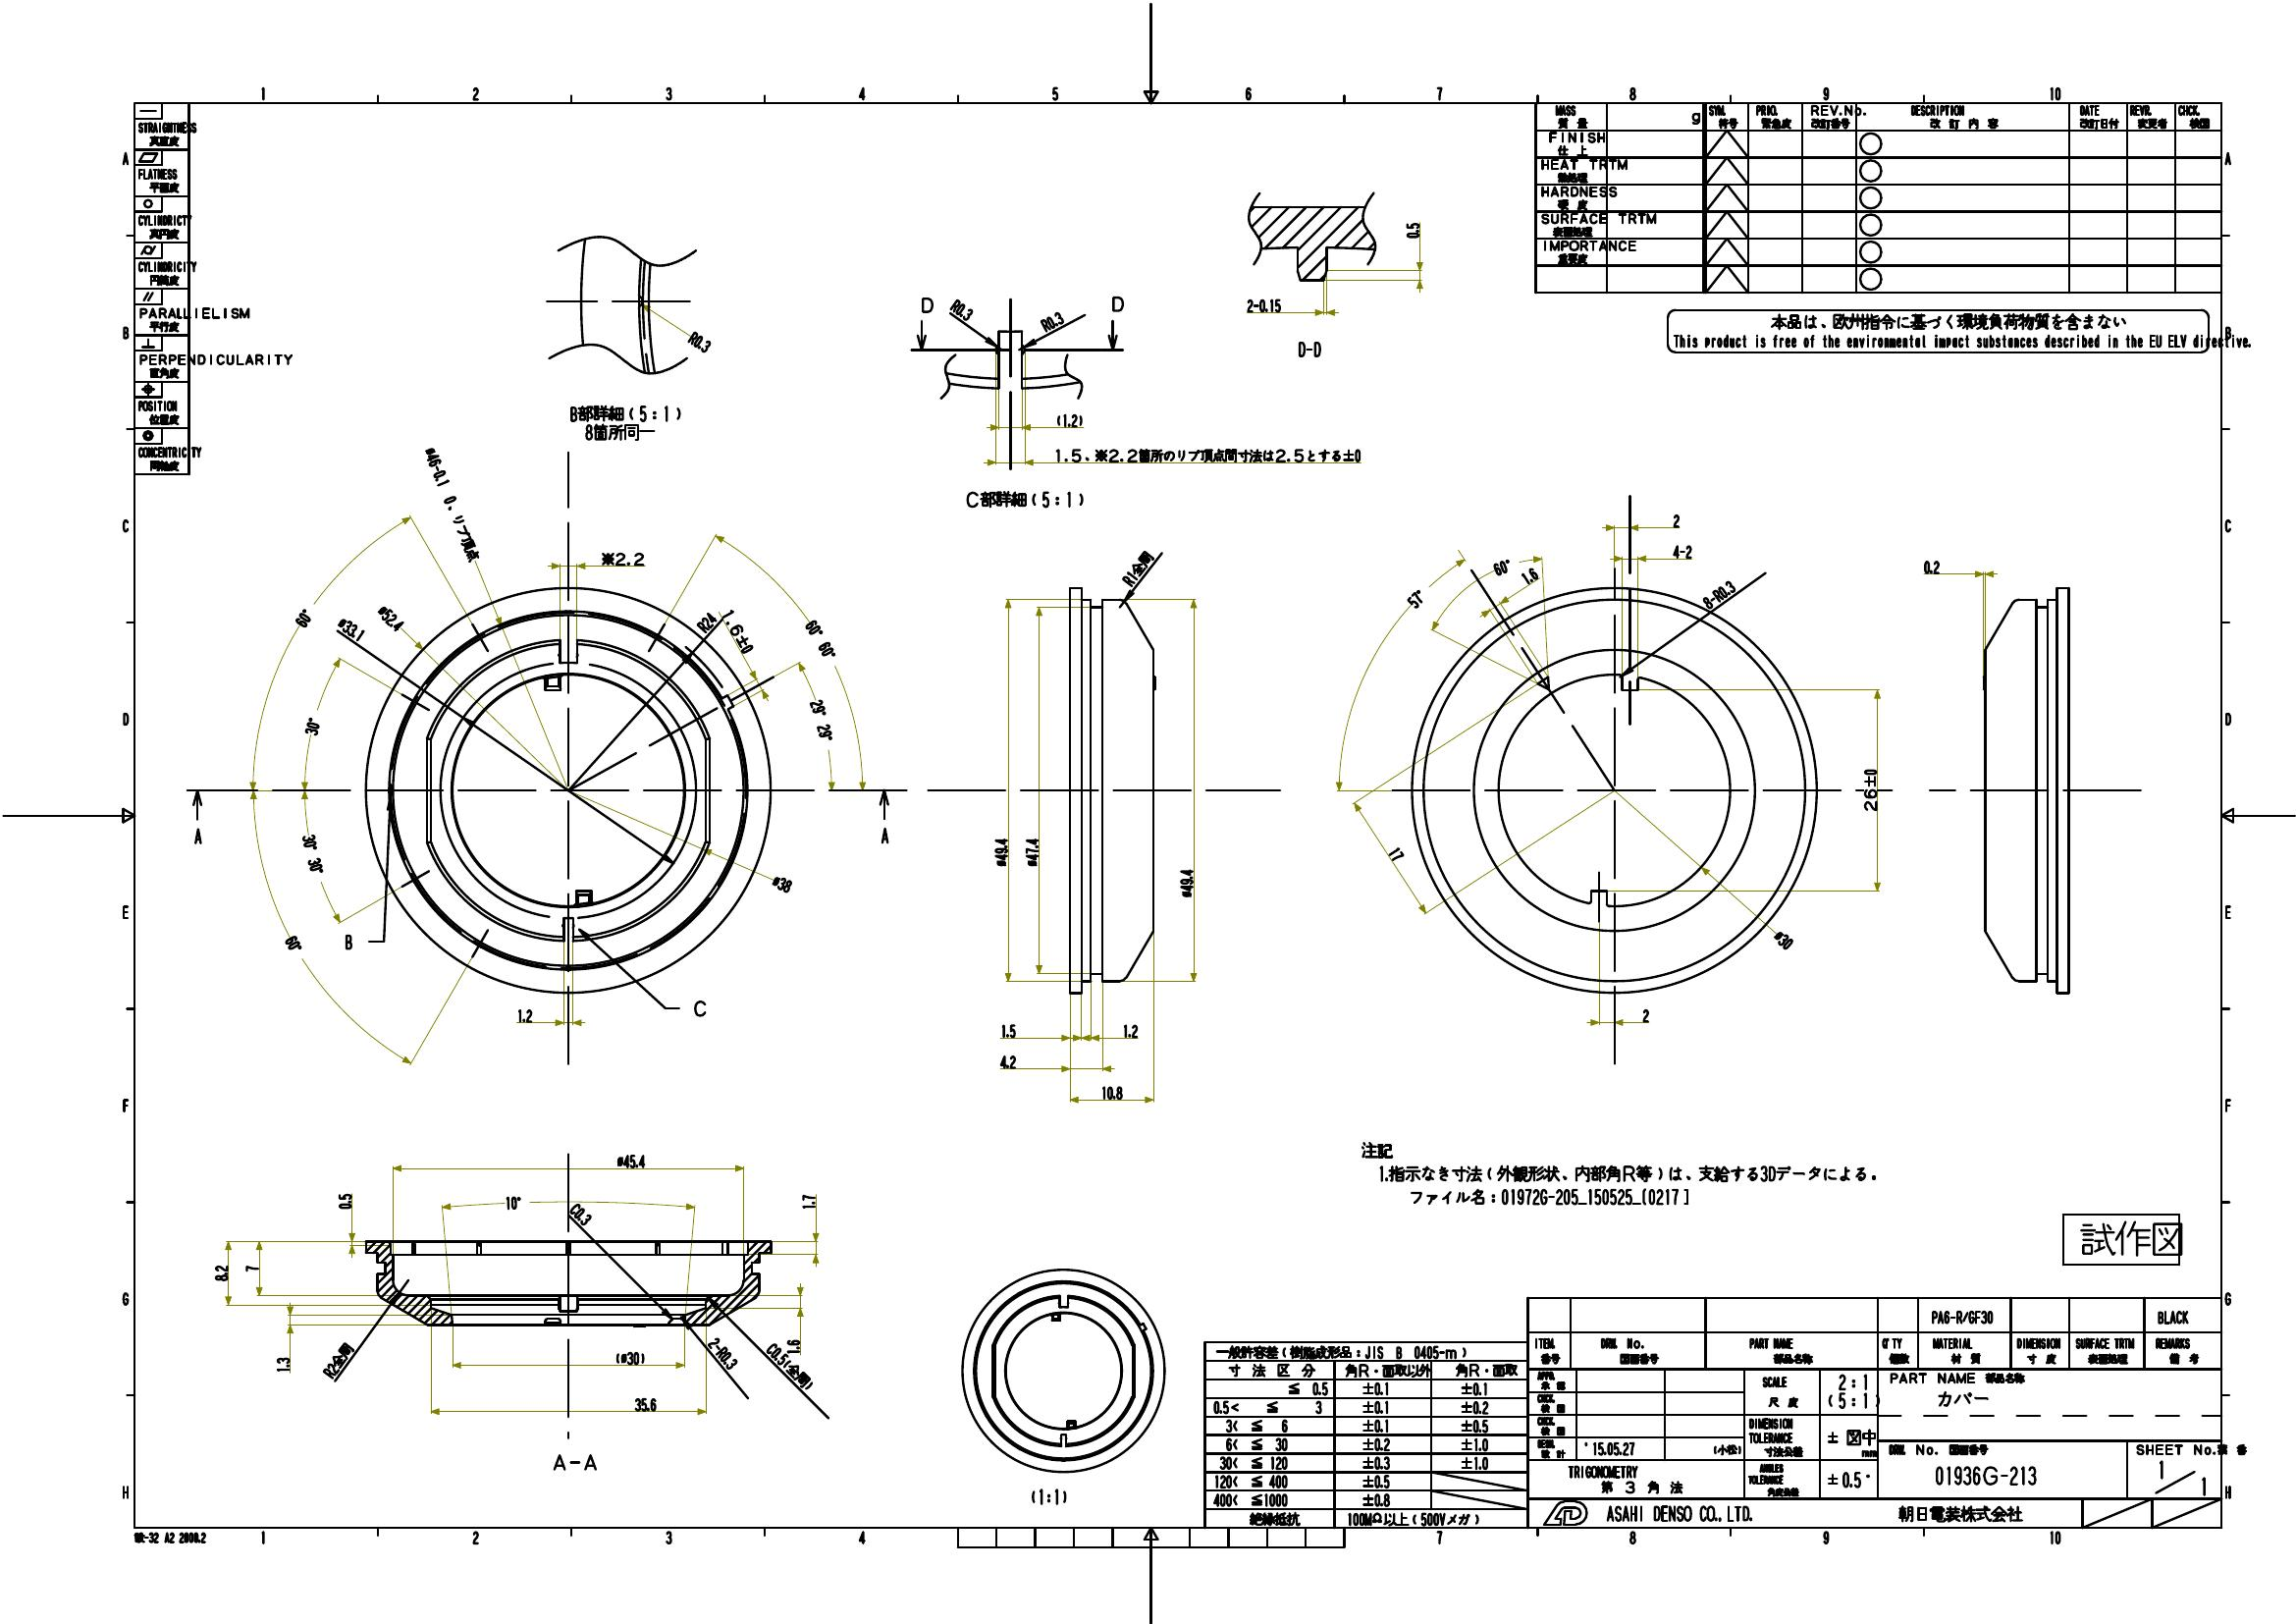anntotation_text: (1351, 1132, 1880, 1220), (1665, 308, 2210, 353), (2064, 1214, 2180, 1265), (566, 401, 689, 441), (963, 487, 1089, 511), (550, 1450, 603, 1476), (132, 1531, 207, 1545), (1029, 1487, 1072, 1508), (443, 531, 490, 547), (1293, 339, 1326, 357), (780, 1367, 817, 1383), (1128, 554, 1156, 571), (917, 297, 940, 316), (871, 826, 894, 845), (188, 826, 207, 847), (690, 998, 711, 1018), (339, 930, 357, 953), (1107, 292, 1123, 316), (330, 1346, 355, 1360)
dimension_text: (1051, 446, 1363, 464), (430, 445, 450, 513), (597, 548, 646, 568), (812, 698, 831, 743), (1860, 766, 1878, 814), (1242, 295, 1286, 313), (812, 619, 829, 663), (731, 608, 747, 656), (989, 831, 1008, 870), (304, 835, 321, 875), (704, 1346, 743, 1362), (1022, 835, 1038, 870), (615, 1151, 646, 1169), (1700, 585, 1737, 599), (336, 620, 367, 636), (374, 610, 406, 626), (1179, 866, 1193, 900), (613, 1352, 646, 1366), (1669, 541, 1693, 559), (1098, 1084, 1124, 1100), (632, 1396, 659, 1411), (1038, 315, 1066, 329), (1056, 411, 1082, 425), (762, 1345, 789, 1359), (949, 302, 973, 316), (773, 874, 792, 891), (283, 935, 302, 953), (1491, 557, 1511, 575), (1407, 589, 1425, 608), (1388, 842, 1405, 861), (211, 1262, 228, 1281), (696, 613, 717, 629), (515, 1007, 536, 1023), (1520, 566, 1541, 582), (337, 1190, 353, 1211), (799, 1190, 815, 1211), (689, 334, 711, 348), (295, 608, 313, 626), (1121, 1021, 1138, 1039), (998, 1053, 1017, 1069), (571, 1206, 590, 1222), (998, 1023, 1019, 1037), (276, 1353, 290, 1374), (304, 717, 320, 735), (1774, 932, 1792, 947), (504, 1195, 522, 1211), (1922, 559, 1941, 573), (1405, 220, 1418, 241), (321, 1362, 337, 1378), (1123, 571, 1137, 587), (787, 1338, 801, 1353), (244, 1262, 260, 1274), (1671, 510, 1681, 527), (1639, 1007, 1650, 1025)
object: (364, 587, 771, 995), (1409, 591, 1818, 993), (959, 1269, 1165, 1471), (1070, 585, 1156, 995), (364, 1239, 771, 1325), (1985, 587, 2068, 993), (546, 236, 697, 373), (1247, 192, 1375, 281), (940, 330, 1080, 401)
title_block: (1205, 1297, 2222, 1529), (1534, 104, 2219, 294), (132, 104, 190, 475)
